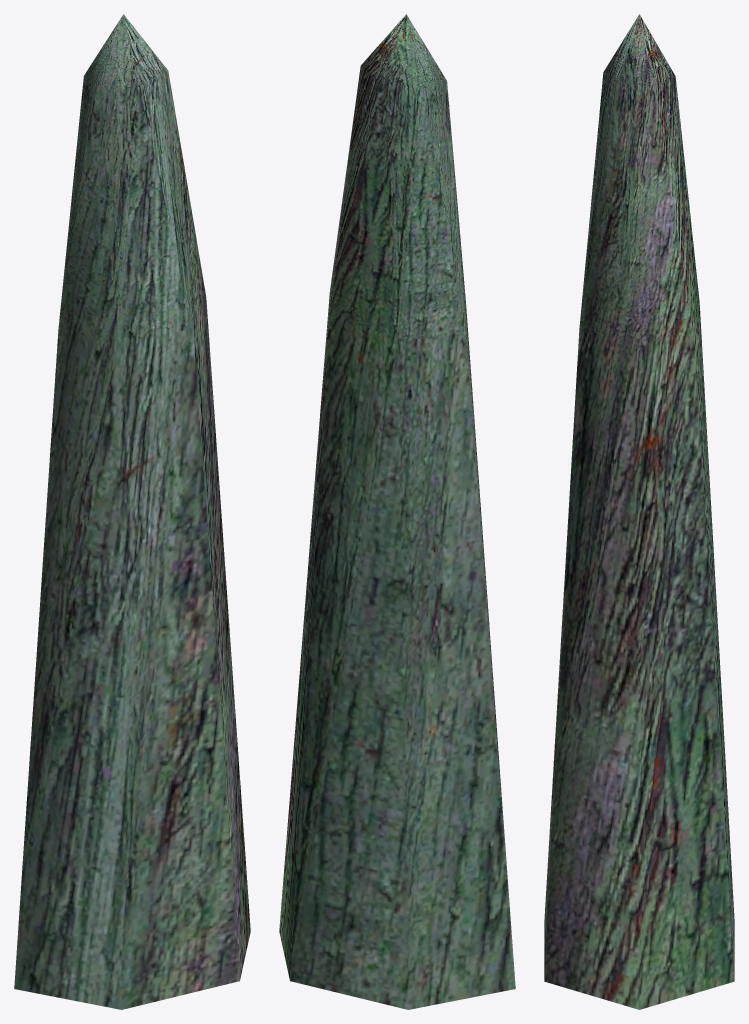
Rendered from decd_treeknee_a2_l1.fbx.
3 views of the same model, side by side, from view 1: azimuth 30°, elevation 25°; view 2: azimuth 150°, elevation 25°; view 3: azimuth 270°, elevation 25° (orthographic).
Parts seen in each view (by area): view 1: mesh_node; view 2: mesh_node; view 3: mesh_node.
Part boxes in pixels (<box>): mesh_node: <box>14,14,250,1009</box>; mesh_node: <box>279,14,515,1009</box>; mesh_node: <box>544,14,734,1009</box>.
Size of the model in its own units: 1.52 by 5.83 by 1.08.
